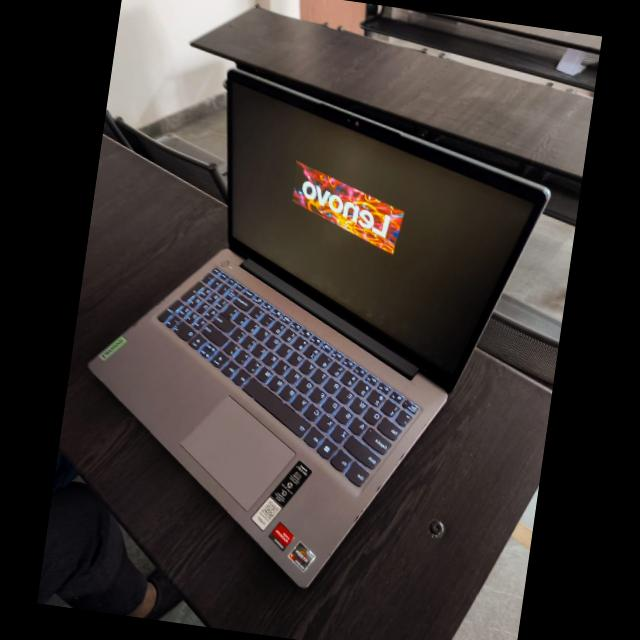laptop: (72, 44, 579, 606)
